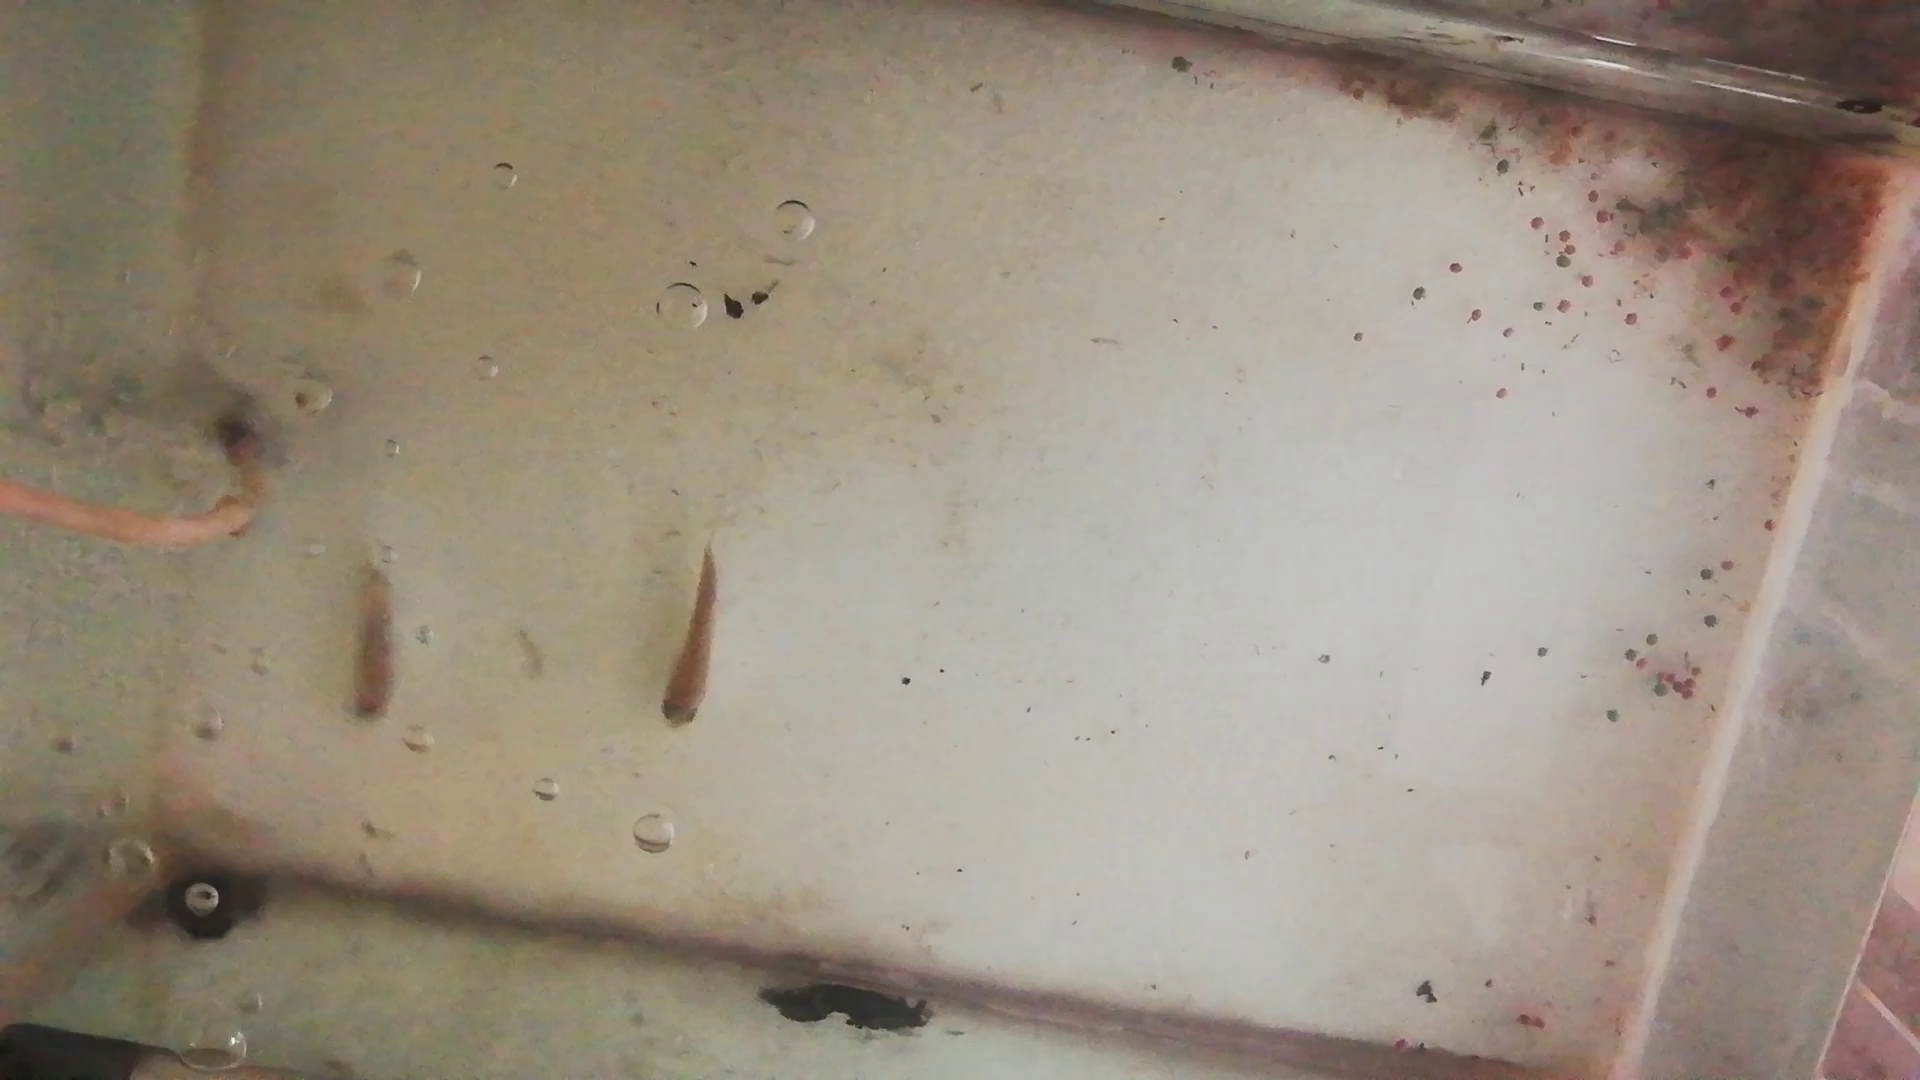fish: (654, 549, 719, 732), (353, 531, 398, 728)
